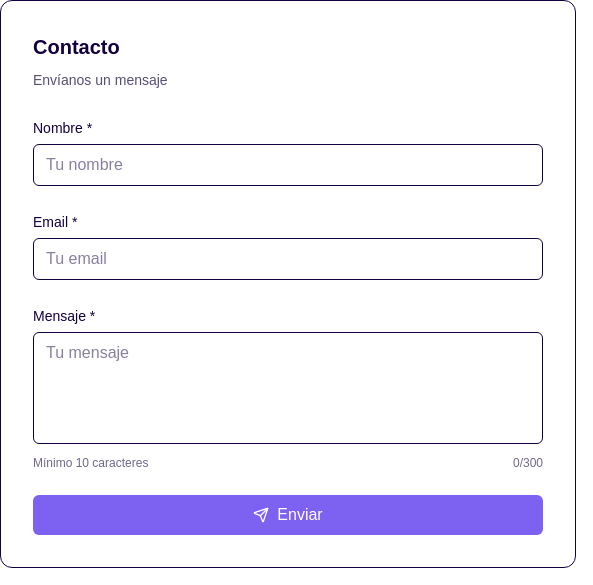
Scenario: ContactForm › flujo exitoso
Step 1. Type "Juan" into the field with placeholder "Tu nombre" → (288, 165), box [33,144,543,186]
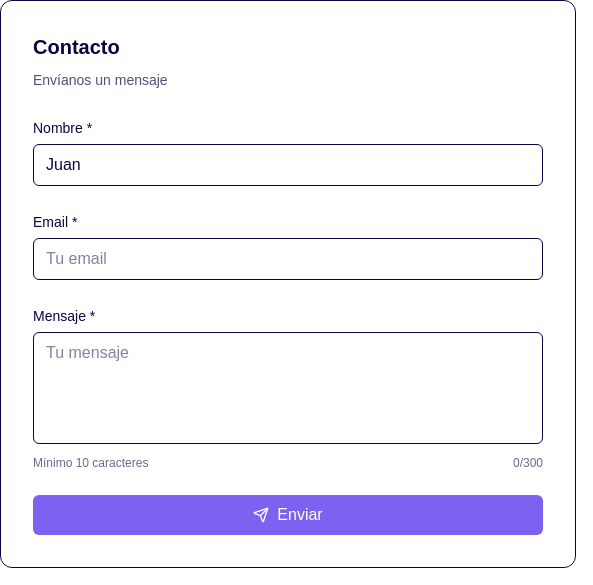
Step 2. Type "test@mail.com" into the field with placeholder "Tu email" → (288, 259), box [33,238,543,280]
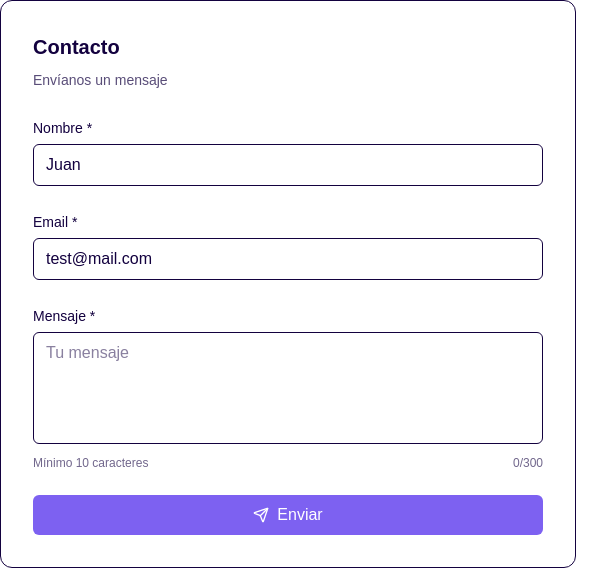
Step 3. Type "Mensaje válido suficiente" into the text box with placeholder "Tu mensaje" → (288, 388), box [33,332,543,444]
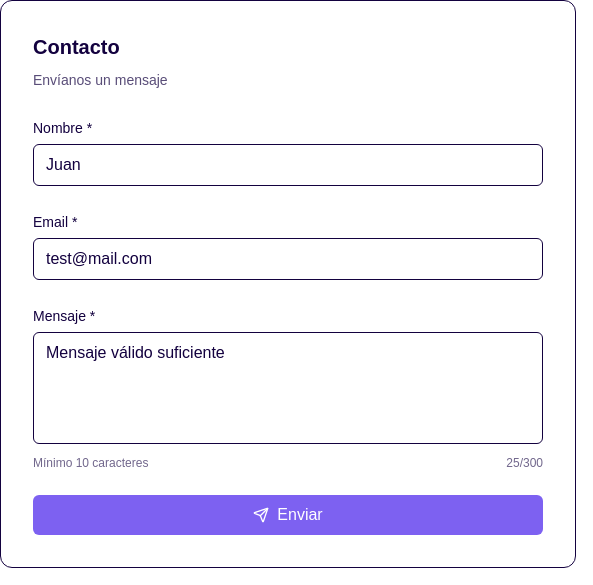
Step 4. Click the button "Enviar" → (288, 515), box [33,495,543,535]
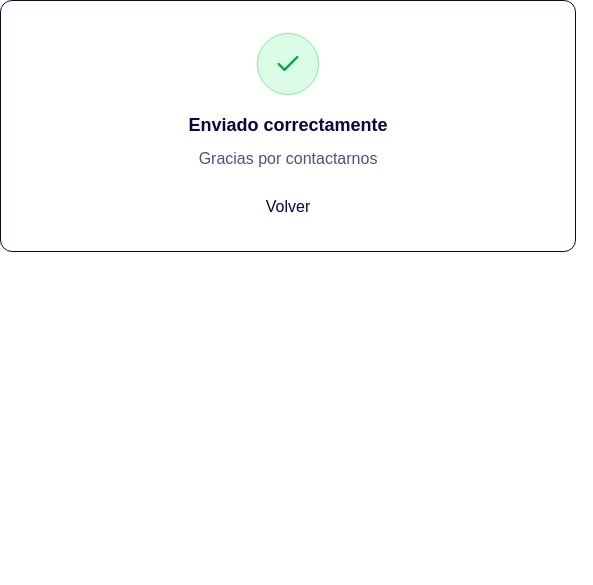
Check: the field with placeholder "Tu nombre" is not shown
Check: the heading "Enviado correctamente" is shown, box [188,115,388,135]
